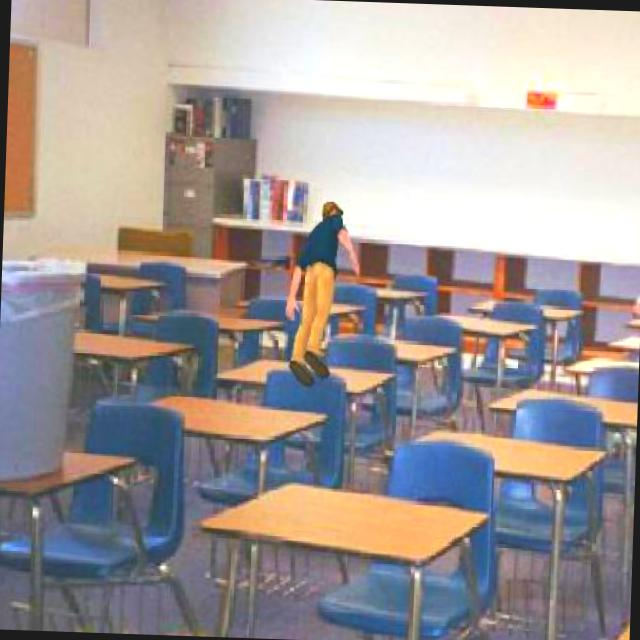Person: (278, 195, 364, 394)
